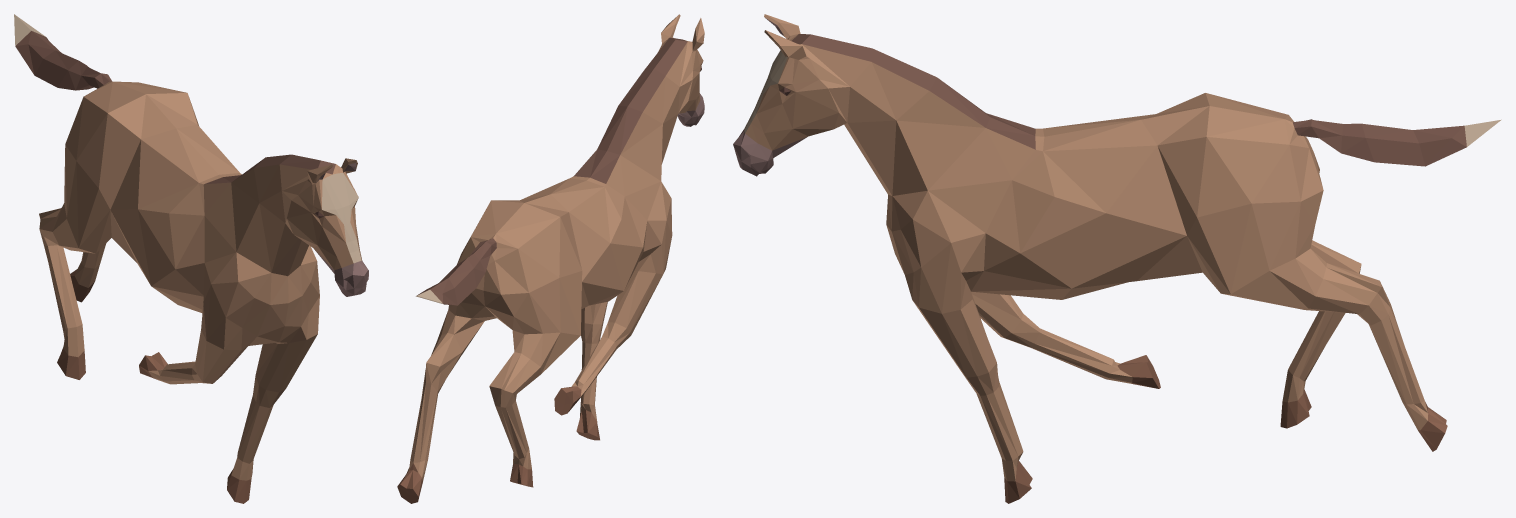
The model's file is ast.glb.
3 renders of one model, left to right at view 1: azimuth 30°, elevation 25°; view 2: azimuth 150°, elevation 25°; view 3: azimuth 270°, elevation 25°, orthographic. The views are drawn at different scales.
Parts seen in each view (by area): view 1: mesh_0; view 2: mesh_0; view 3: mesh_0.
Boxes of the visible parts, x1,y1,x2,y2 form: mesh_0: (14, 14, 368, 503); mesh_0: (397, 14, 704, 503); mesh_0: (733, 14, 1501, 503).
Size of the model in its own units: 65.84 by 200 by 291.
